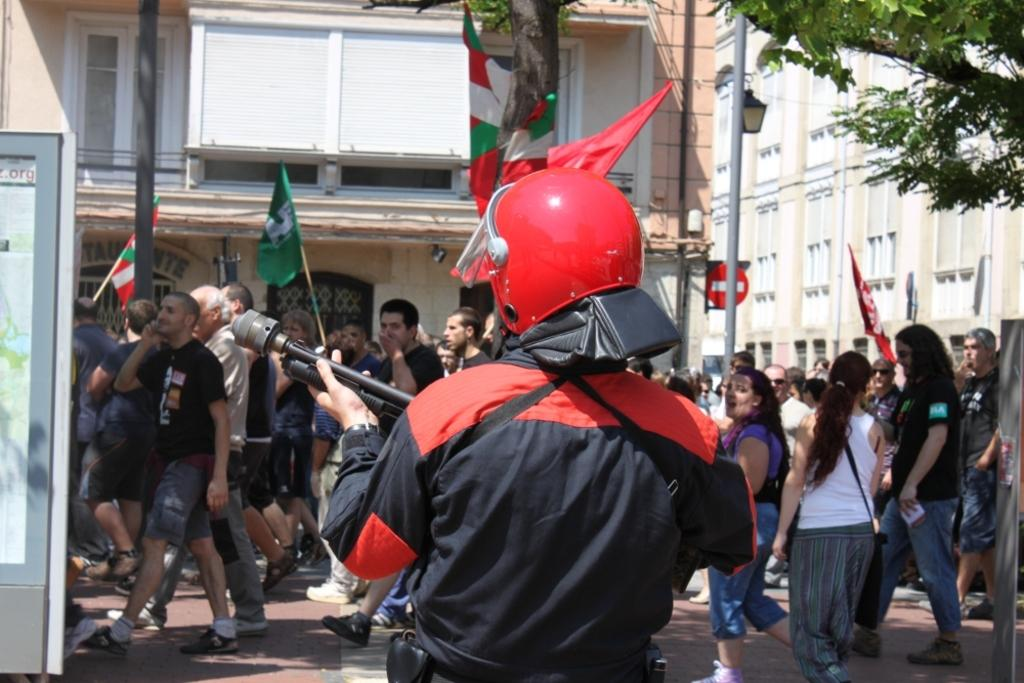helmet: (456, 167, 645, 338)
nohelmet: (895, 323, 944, 387), (182, 285, 231, 344), (828, 350, 873, 414), (724, 368, 773, 424), (378, 297, 420, 357), (154, 290, 201, 343), (443, 306, 483, 355), (215, 284, 254, 333), (124, 300, 161, 348), (962, 327, 997, 373), (281, 309, 315, 355), (761, 364, 790, 405), (72, 296, 100, 332), (871, 357, 897, 392)
